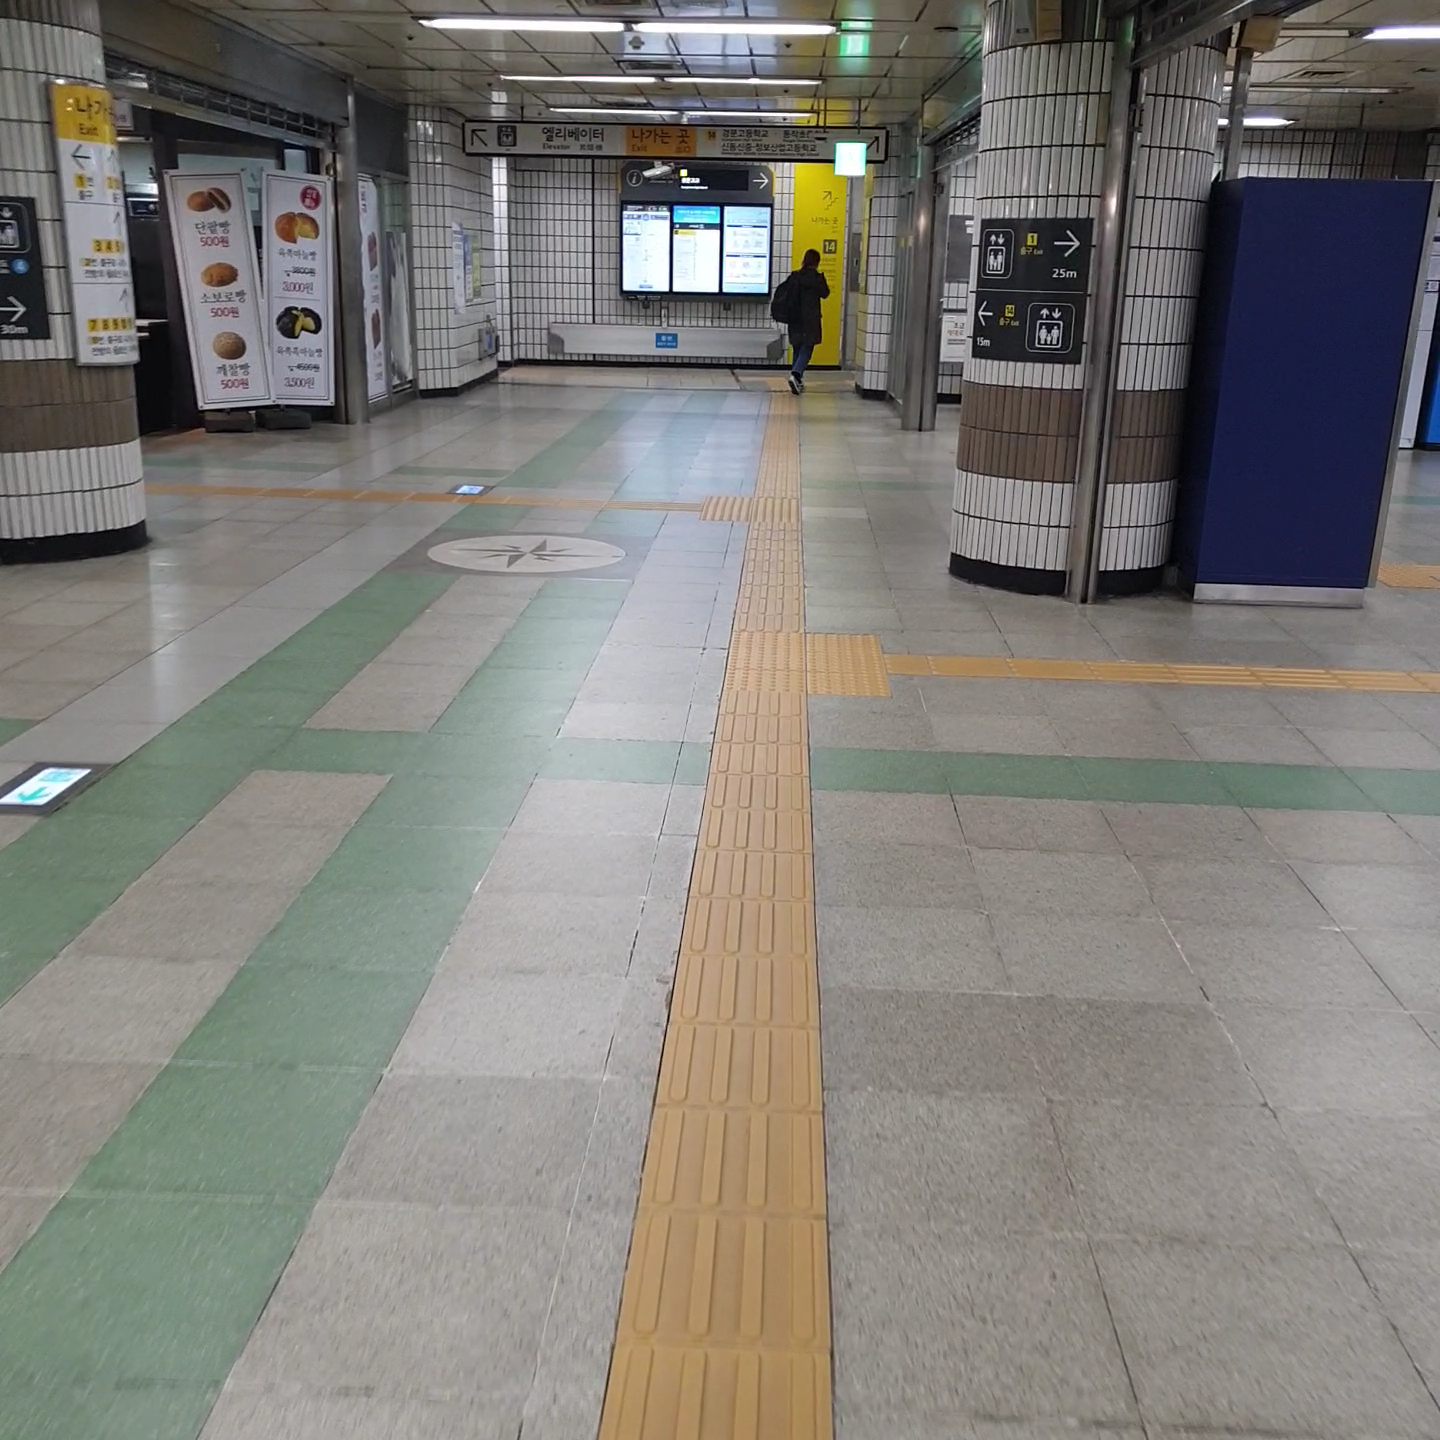dot: (800, 632, 883, 681), (731, 630, 804, 683), (811, 651, 882, 697)
line: (624, 1214, 834, 1348), (643, 1102, 828, 1221), (661, 1011, 827, 1121), (670, 948, 821, 1030), (685, 894, 824, 965), (691, 847, 815, 902), (713, 744, 809, 814), (701, 797, 815, 854), (716, 684, 807, 745), (737, 586, 803, 630)
person: (768, 241, 828, 396)
